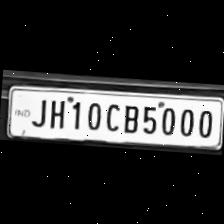0: (83, 98, 103, 132), (194, 106, 214, 139), (156, 104, 176, 136), (177, 104, 196, 136)
1: (64, 96, 84, 130)
5: (138, 101, 158, 136)
B: (119, 100, 140, 134)
C: (102, 99, 121, 133)
H: (44, 95, 68, 129)
J: (28, 94, 46, 128)
